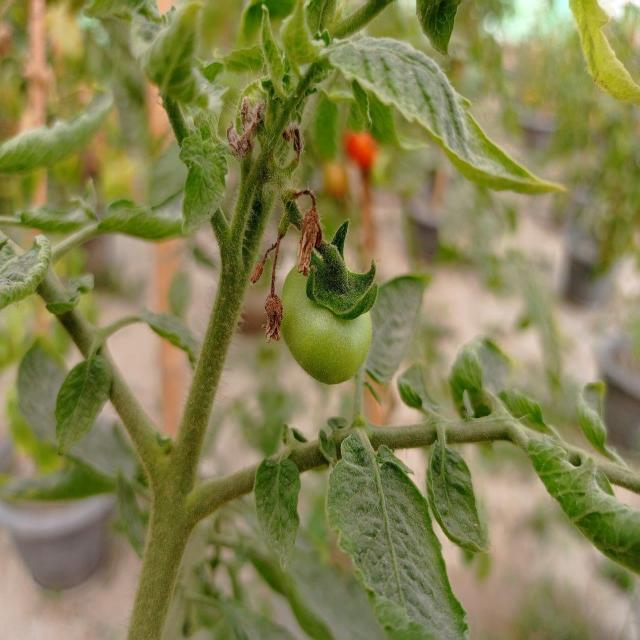Unripe: (279, 250, 373, 386)
